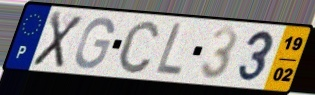3: (198, 24, 240, 83), (235, 29, 276, 85)
C: (116, 18, 162, 76)
G: (73, 15, 116, 71)
L: (153, 21, 185, 79)
X: (29, 10, 85, 70)
